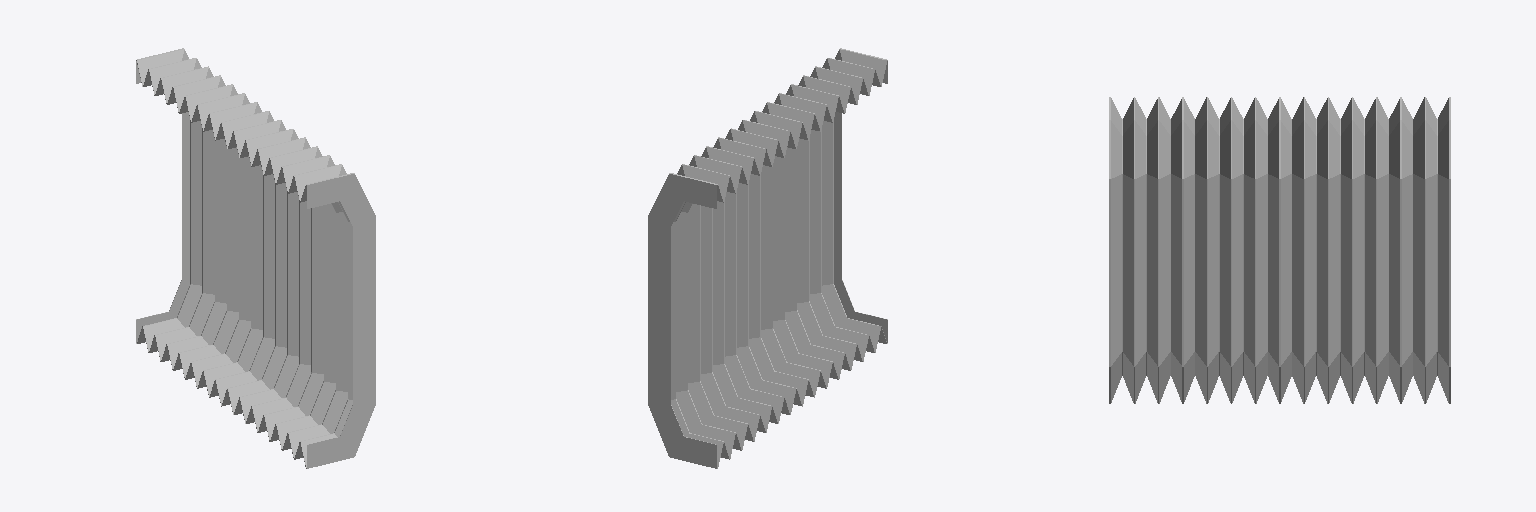
Rendered from bellows_link.obj.
3 renders of one model, left to right at view 1: azimuth 30°, elevation 25°; view 2: azimuth 150°, elevation 25°; view 3: azimuth 270°, elevation 25°, orthographic.
Size of the model in its own units: 0.0764 by 0.2988 by 0.3268.